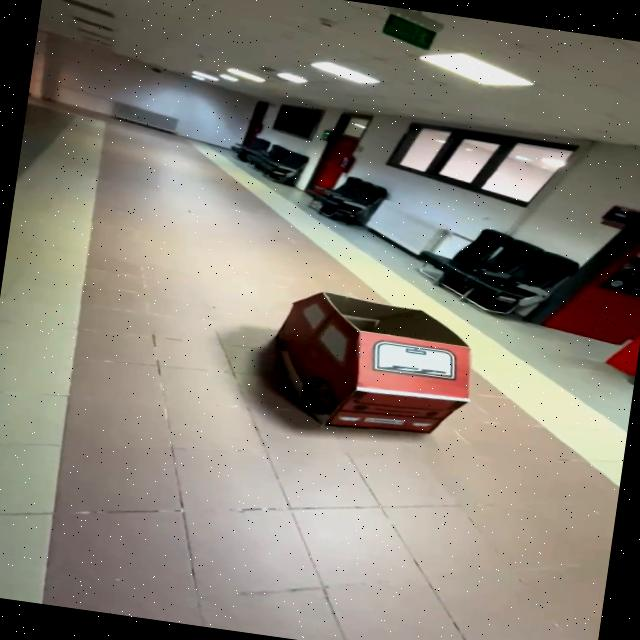red_car: (197, 260, 503, 456)
